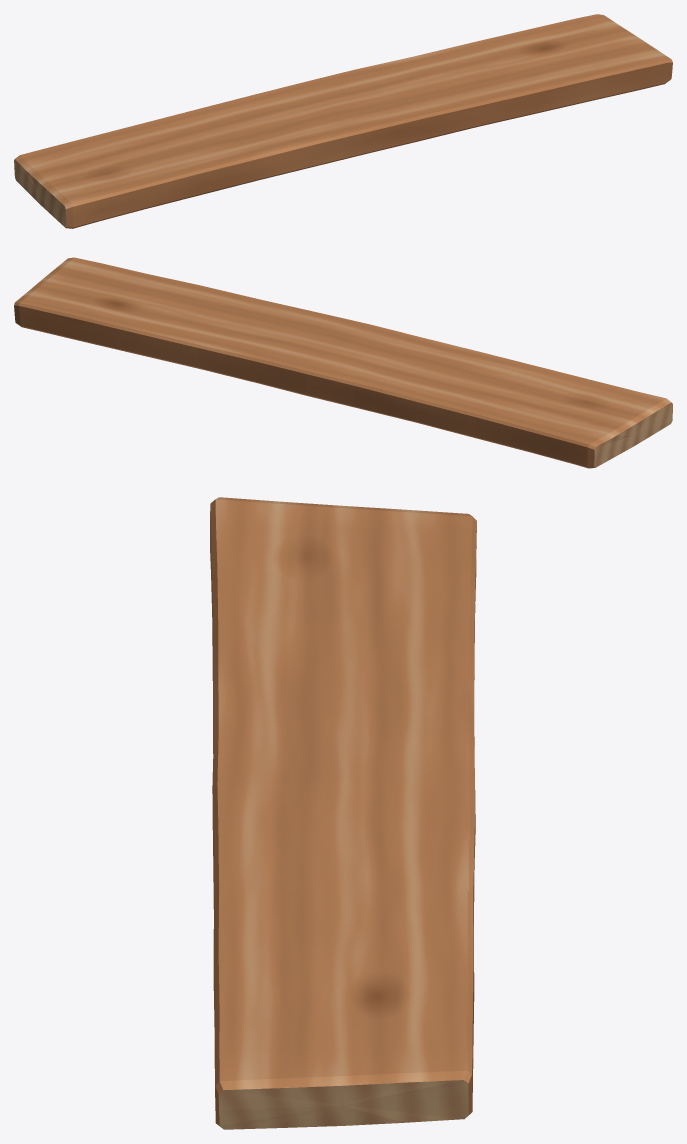
Rendered from SM_Plank.glb.
The picture shows the model from 3 angles, top to bottom: view 1: azimuth 30°, elevation 25°; view 2: azimuth 150°, elevation 25°; view 3: azimuth 270°, elevation 25°; orthographic projection. The views are drawn at different scales.
Parts seen in each view (by area): view 1: SM_Plank; view 2: SM_Plank; view 3: SM_Plank.
Boxes of the visible parts, box(x1,y1,x2,y2) form: SM_Plank: box(14, 14, 672, 228); SM_Plank: box(14, 257, 672, 468); SM_Plank: box(210, 497, 476, 1129).
Bounding box in the file's own units: 1.15 × 0.0532 × 0.2208.
1 material, 1 textured.
